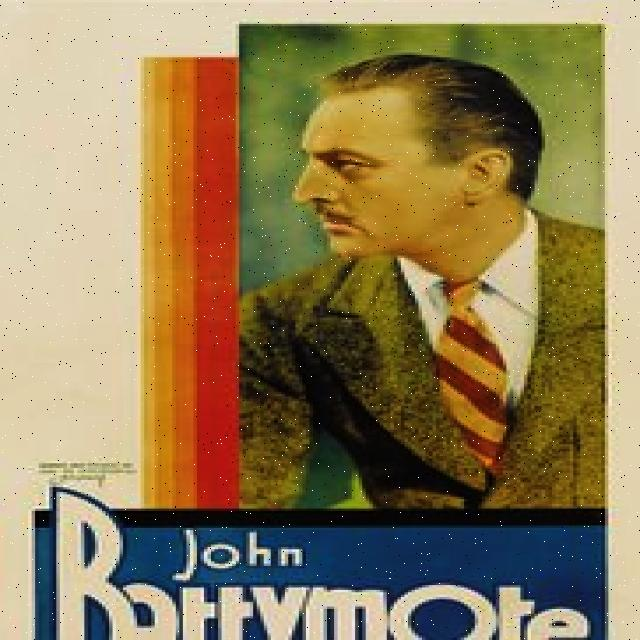movie-judul: (31, 495, 604, 640)
picture: (240, 26, 614, 493)
